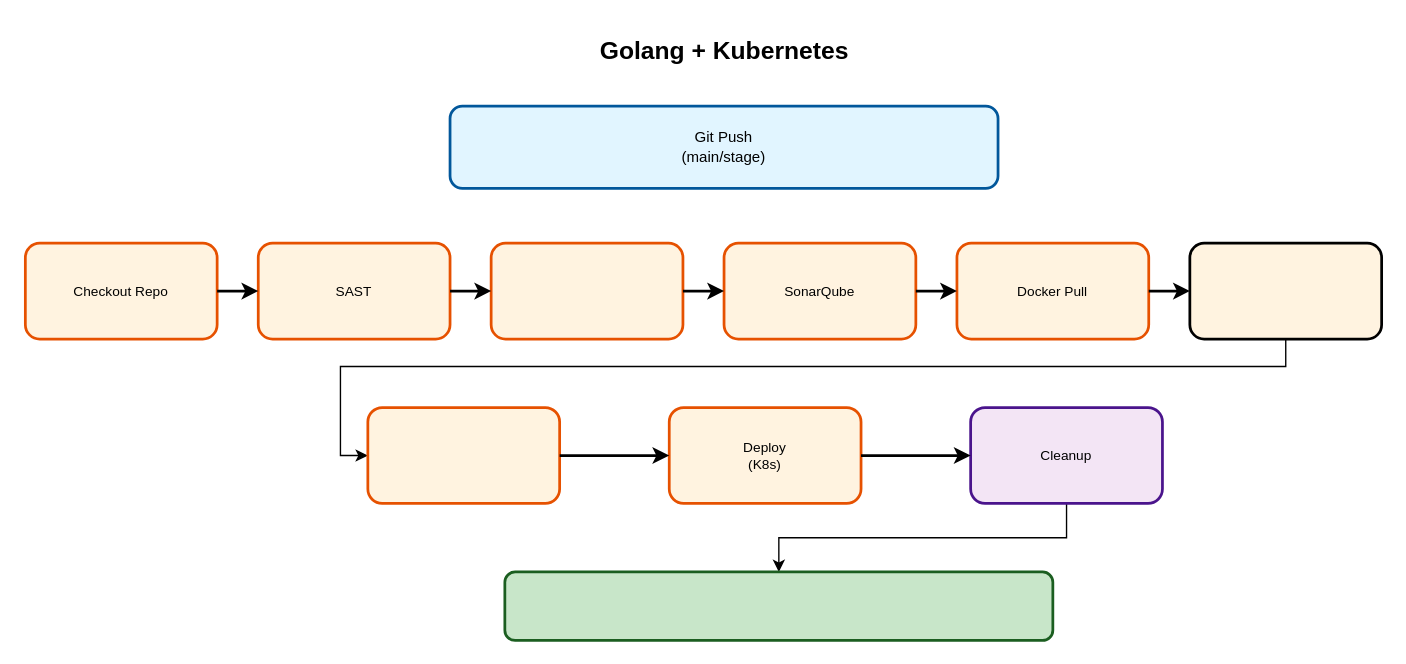
The diagram is 1406 pixels wide and 664 high, and some of its shapes have lost their labels. Each missing label, with the centre of its shape:
AWS Login: the point at 1285,290
Docker Build & Push: the point at 463,455
Unit Tests: the point at 586,290
✅ OK: the point at 778,605
